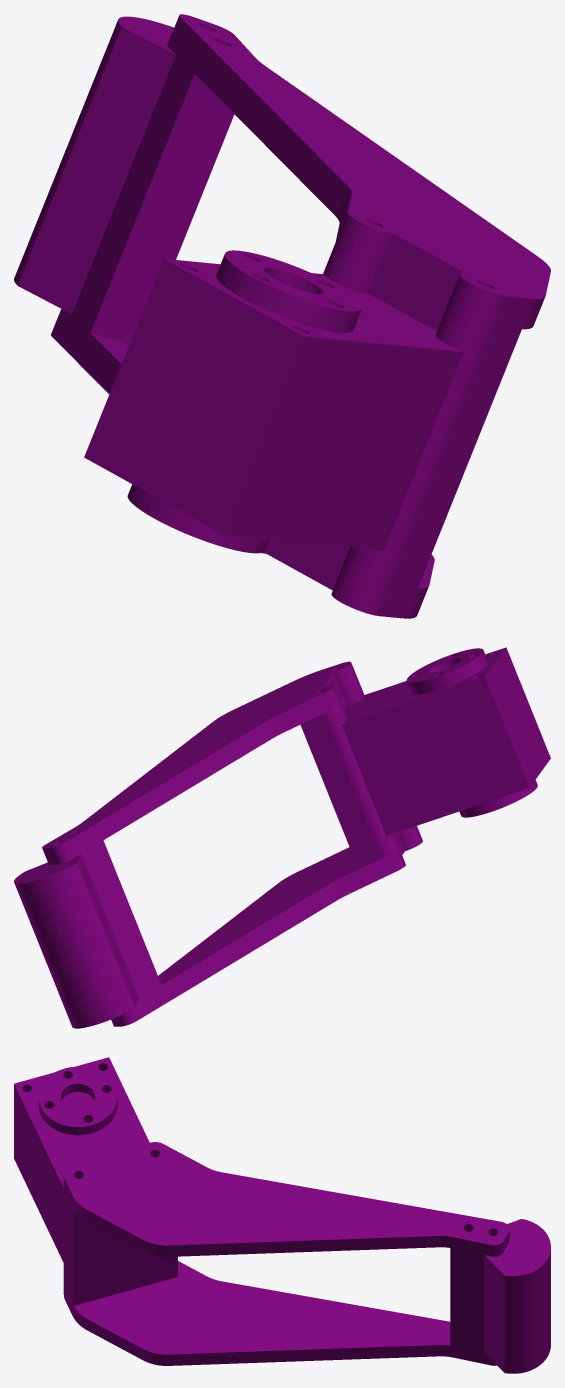
File: hexy_test_5_Tibia_2_vis_1.dae
3 views of the same model, one above another, from view 1: azimuth 30°, elevation 25°; view 2: azimuth 150°, elevation 25°; view 3: azimuth 270°, elevation 25° (orthographic). The views are drawn at different scales.
Parts seen in each view (by area): view 1: node; view 2: node; view 3: node.
Boxes of the visible parts, x1,y1,x2,y2 form: node: [14, 14, 550, 618]; node: [14, 647, 550, 1028]; node: [14, 1057, 550, 1373].
Bounding box in the file's own units: 0.3252 × 0.2527 × 0.5303.
